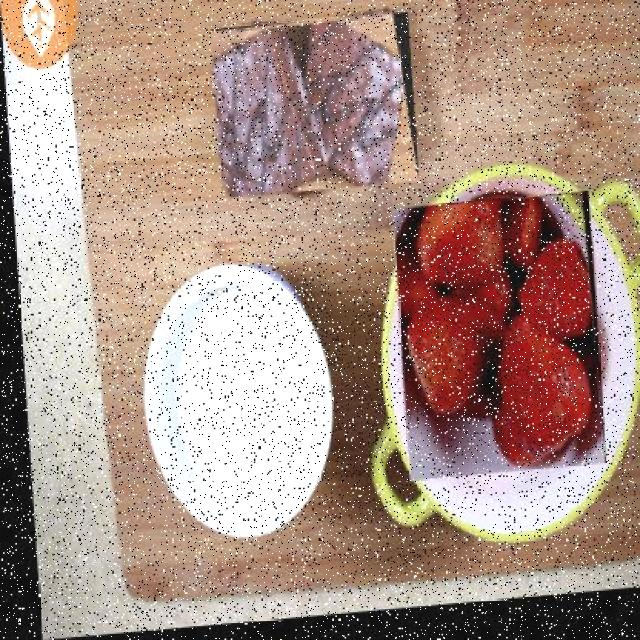Strawberry: (388, 199, 600, 487)
